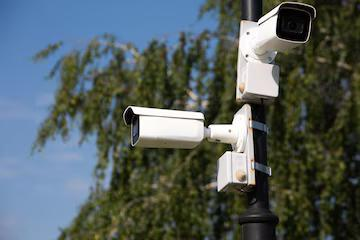------------------------------: (117, 99, 220, 162), (237, 2, 322, 64)
